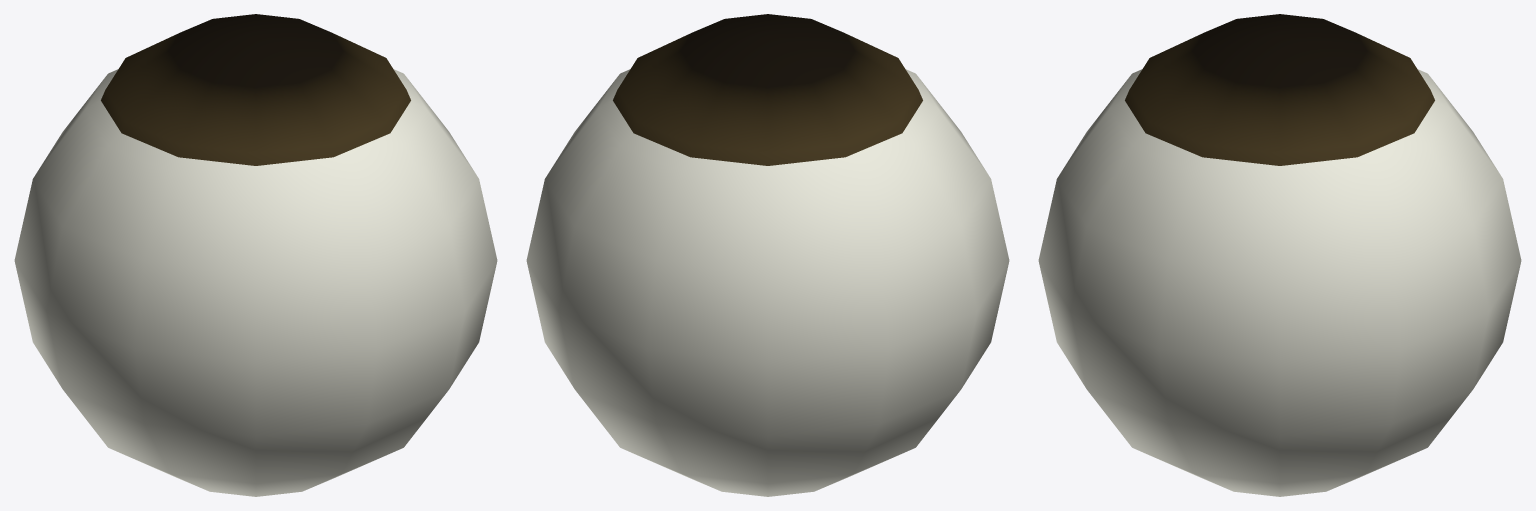
The model's file is fogtail_carp_eye.glb.
3 renders of one model, left to right at view 1: azimuth 30°, elevation 25°; view 2: azimuth 150°, elevation 25°; view 3: azimuth 270°, elevation 25°, orthographic.
Parts seen in each view (by area): view 1: fogtail_carp_eye; view 2: fogtail_carp_eye; view 3: fogtail_carp_eye.
Part boxes in pixels (left/top/right/bottom): fogtail_carp_eye: left=14, top=14, right=497, bottom=496; fogtail_carp_eye: left=526, top=14, right=1009, bottom=496; fogtail_carp_eye: left=1038, top=14, right=1521, bottom=496.
Bounding box in the file's own units: 0.014 × 0.014 × 0.014.
